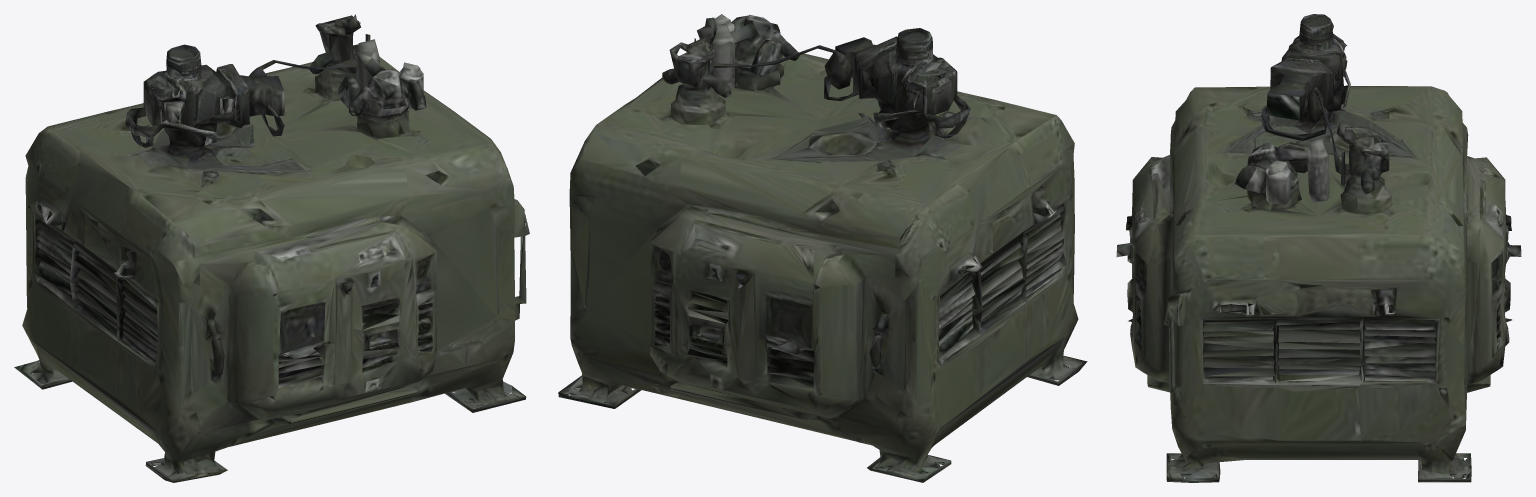
Rendered from t243_factory_lod1.glb.
3 renders of one model, left to right at view 1: azimuth 30°, elevation 25°; view 2: azimuth 150°, elevation 25°; view 3: azimuth 270°, elevation 25°, orthographic. The views are drawn at different scales.
Bounding box in the file's own units: 18 × 16.11 × 17.41.
1 material, 1 textured.
